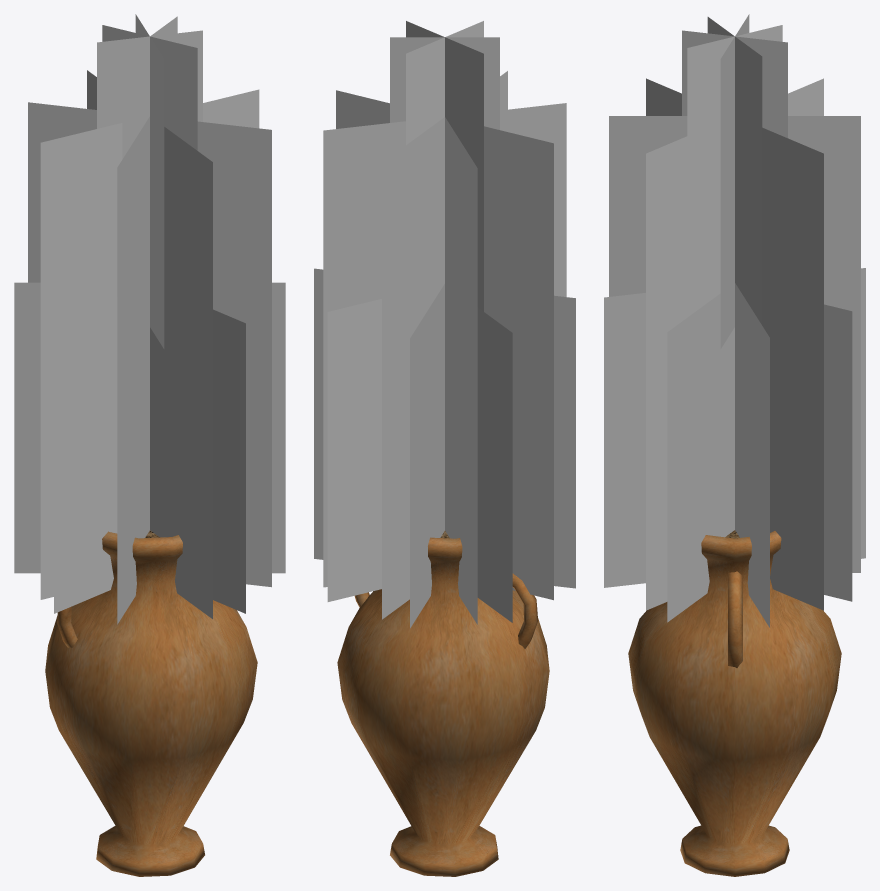
The model's file is Model_Plant_Potted_03.fbx.
The picture shows the model from 3 angles, left to right: view 1: azimuth 30°, elevation 25°; view 2: azimuth 150°, elevation 25°; view 3: azimuth 270°, elevation 25°; orthographic projection.
Parts seen in each view (by area): view 1: Potted_Plant_03; view 2: Potted_Plant_03; view 3: Potted_Plant_03.
Part boxes in pixels (x1,y1,x2,y2): Potted_Plant_03: (14, 14, 285, 876); Potted_Plant_03: (314, 21, 575, 876); Potted_Plant_03: (604, 14, 865, 876).
Bounding box in the file's own units: 47.28 × 163 × 47.28.
